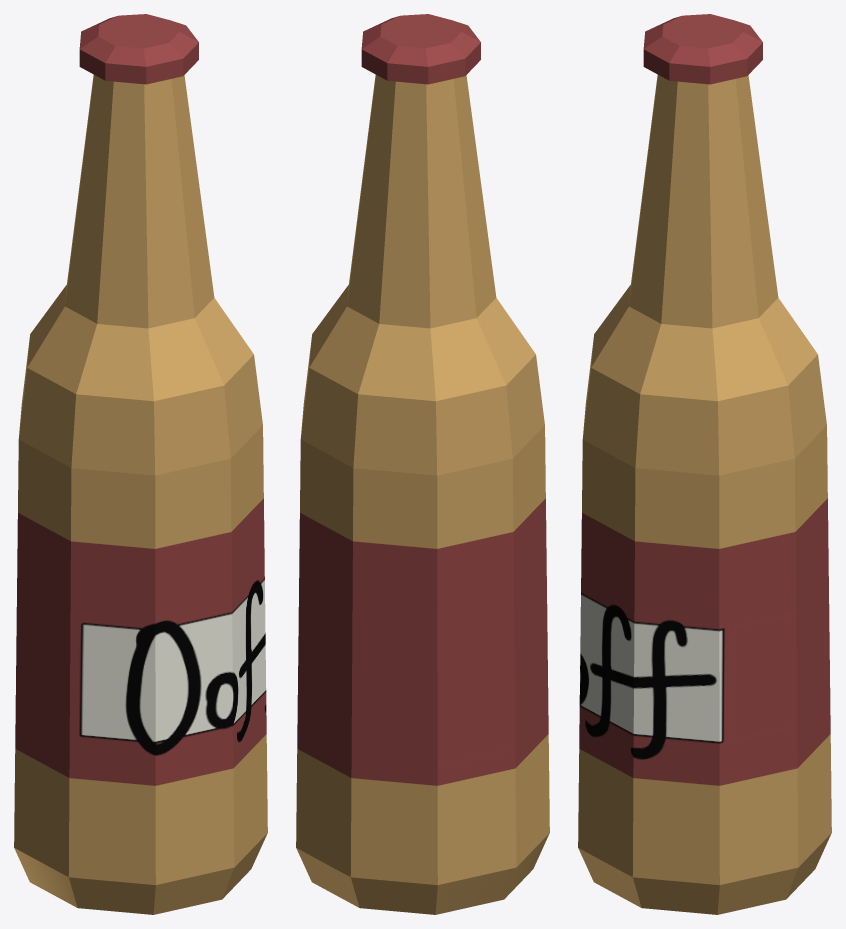
File: Beer.FBX
3 views of the same model, side by side, from view 1: azimuth 30°, elevation 25°; view 2: azimuth 150°, elevation 25°; view 3: azimuth 270°, elevation 25° (orthographic).
Parts seen in each view (by area): view 1: BeerBottle001; view 2: BeerBottle001; view 3: BeerBottle001.
Part boxes in pixels (left/top/right/bottom): BeerBottle001: left=14, top=14, right=267, bottom=914; BeerBottle001: left=296, top=14, right=549, bottom=914; BeerBottle001: left=578, top=14, right=831, bottom=914.
Size of the model in its own units: 41.91 by 151 by 41.53.
